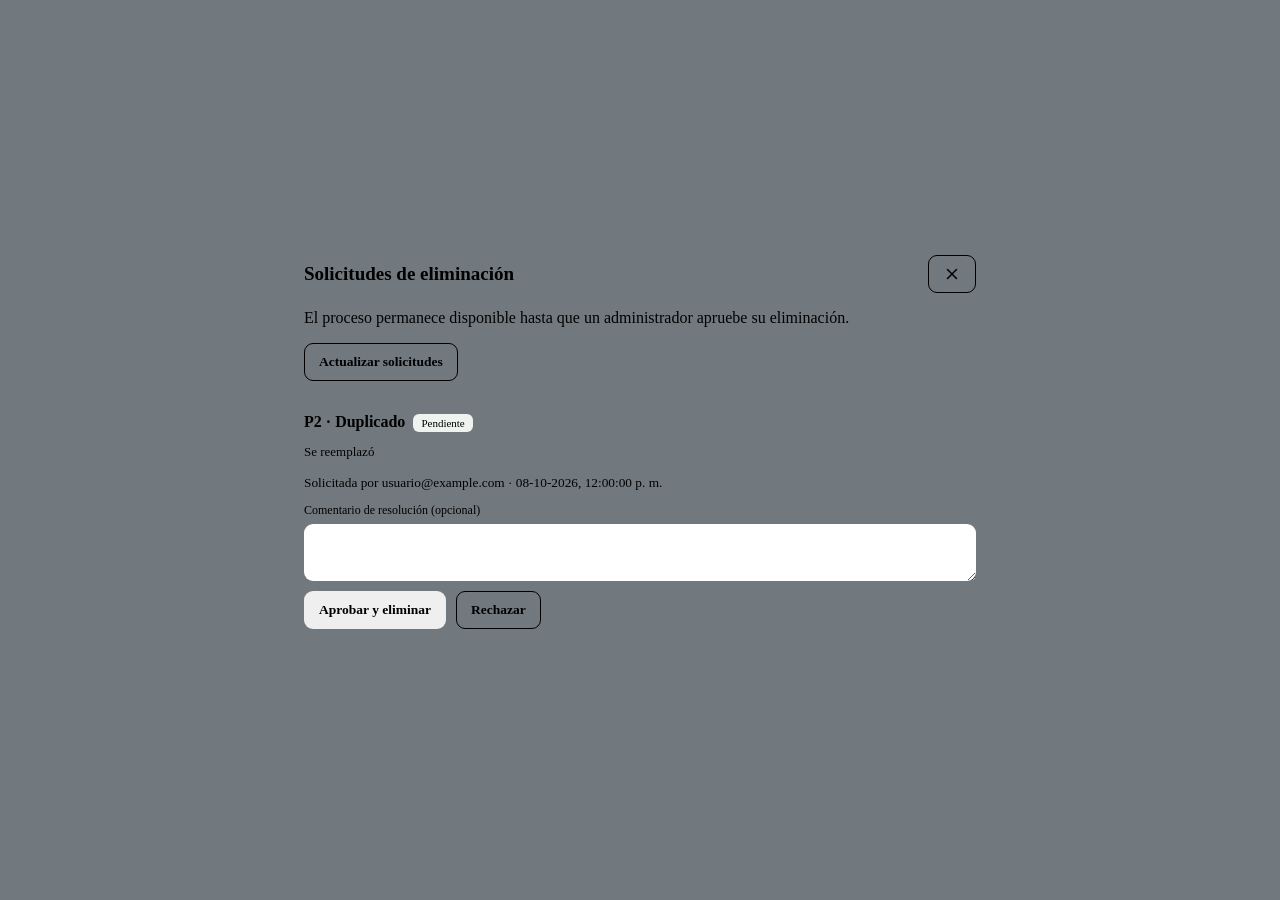
Test: Bandeja de solicitudes de eliminación › pide confirmación y retira el proceso después de la aprobación
This screenshot has width=1280, height=900.
Click the button "Aprobar y eliminar" at [375, 610], box [304,591,446,629]
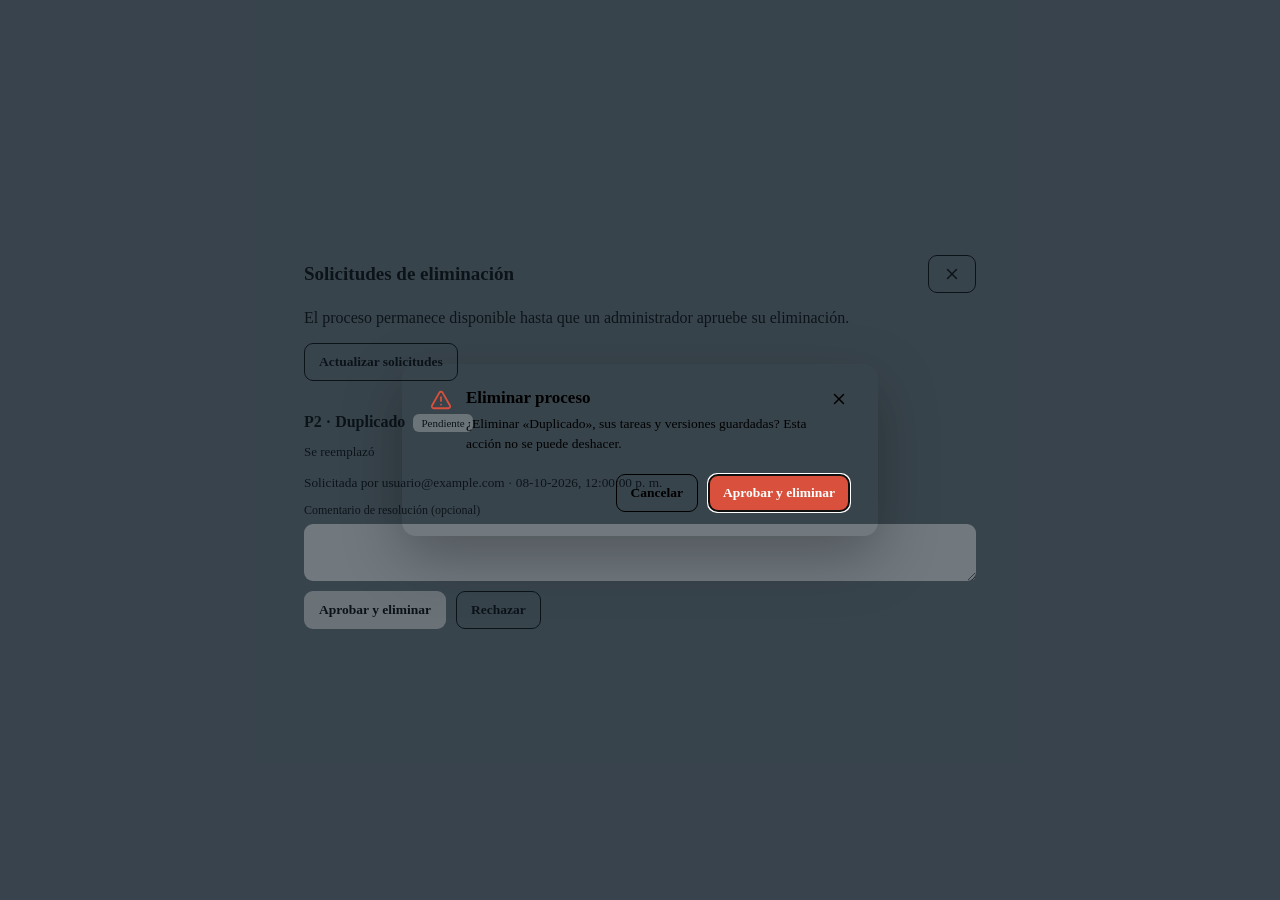
Click the button "Aprobar y eliminar" at [779, 493], box [708,474,850,512]
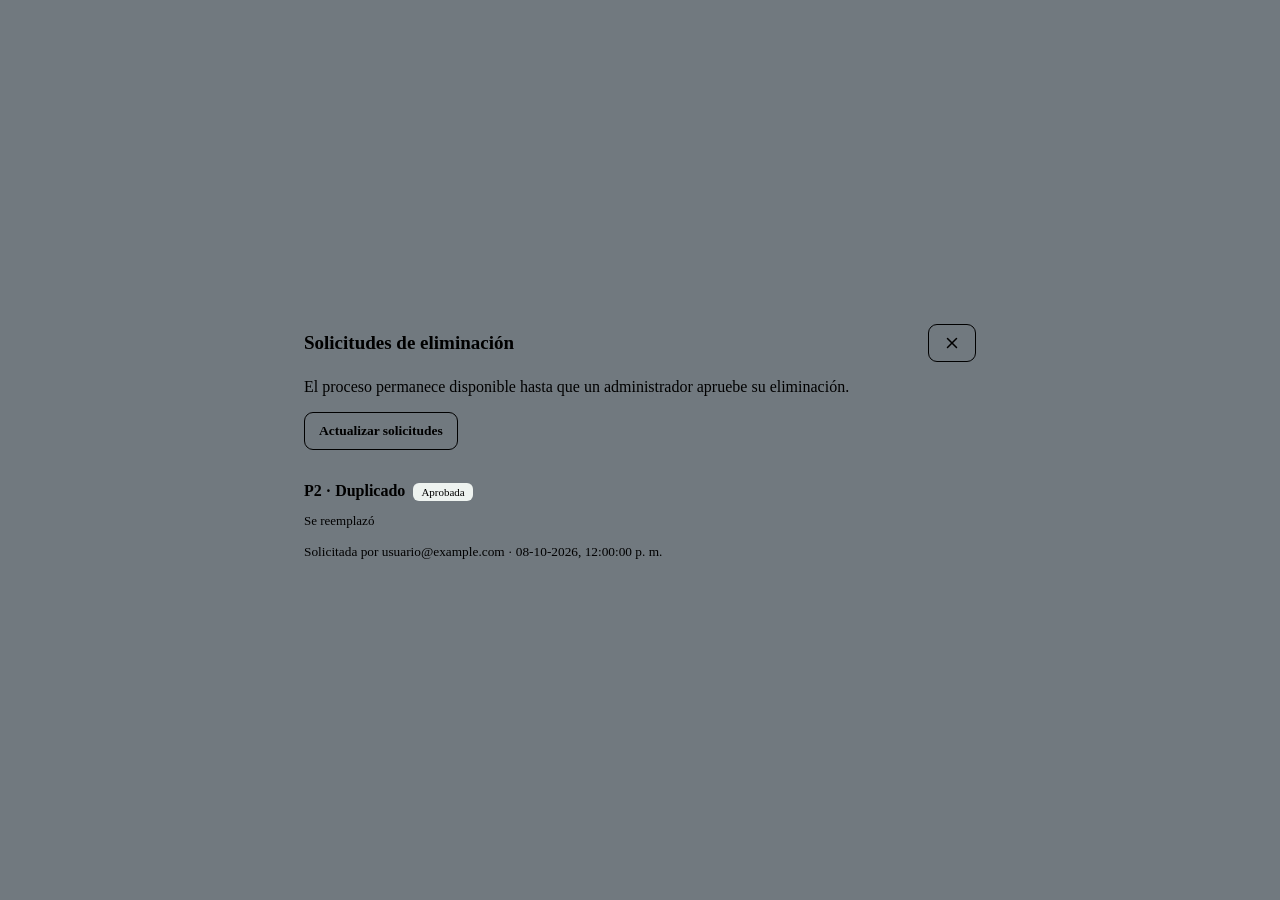
Check: the text "Aprobada" is shown, box [413,483,473,501]
